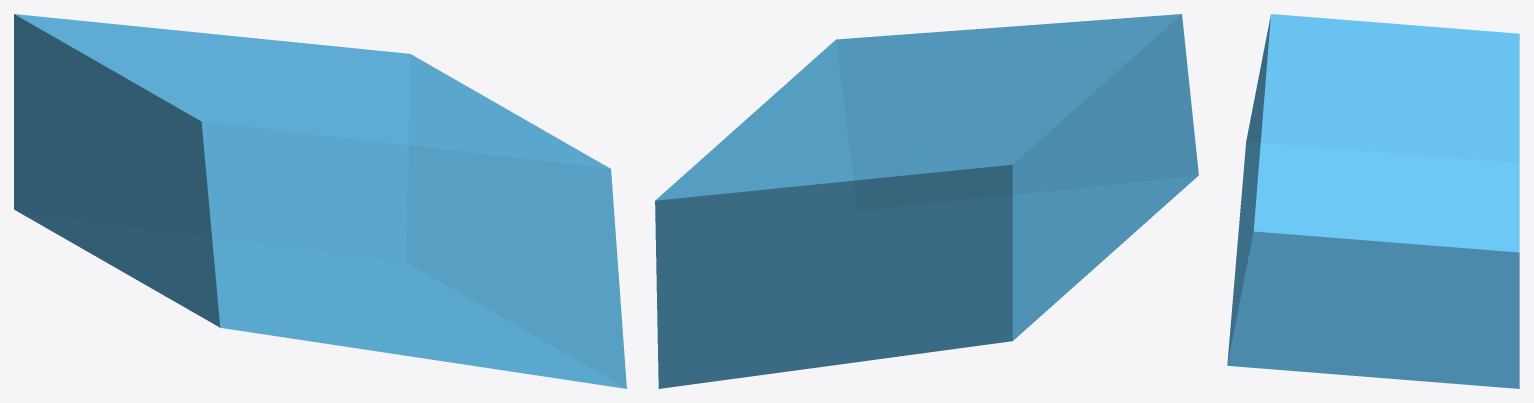
File: Event_420094457_HErechit_33.fbx
3 renders of one model, left to right at view 1: azimuth 30°, elevation 25°; view 2: azimuth 150°, elevation 25°; view 3: azimuth 270°, elevation 25°, orthographic. The views are drawn at different scales.
Parts seen in each view (by area): view 1: Model; view 2: Model; view 3: Model.
Boxes of the visible parts, left/top/right/bottom form: Model: left=14, top=14, right=626, bottom=388; Model: left=655, top=14, right=1198, bottom=388; Model: left=1227, top=14, right=1519, bottom=388.
Size of the model in its own units: 0.7099 by 0.64 by 0.6839.
